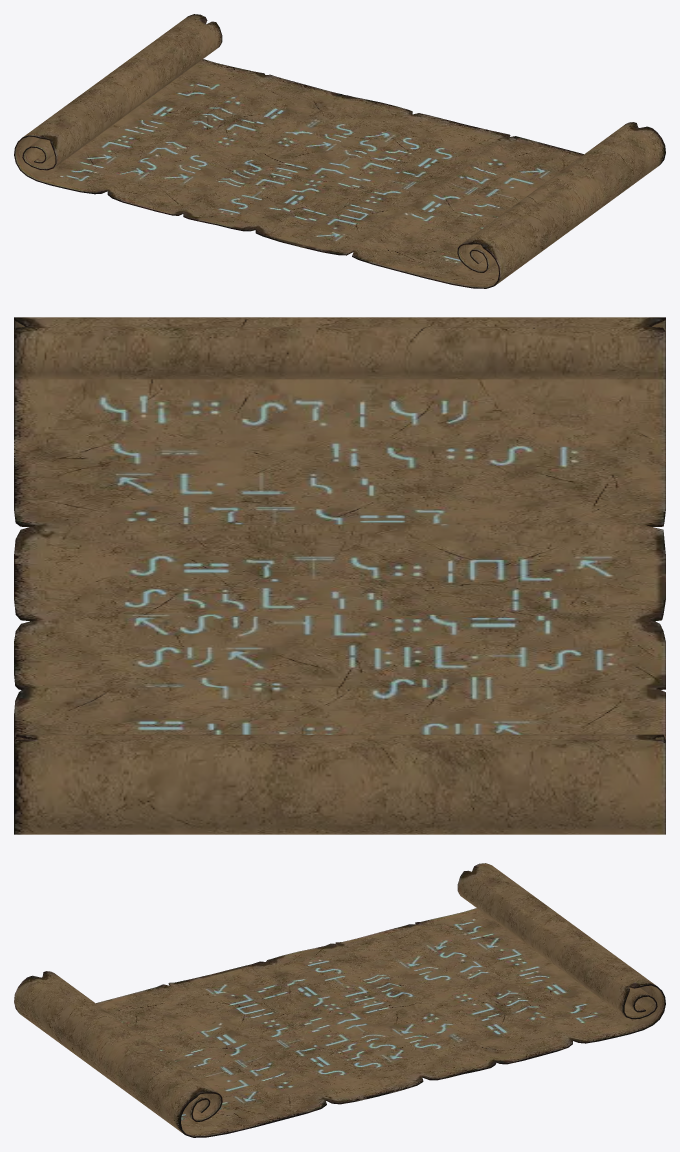
Rendered from scroll.glb.
3 renders of one model, top to bottom at view 1: azimuth 30°, elevation 25°; view 2: azimuth 150°, elevation 25°; view 3: azimuth 270°, elevation 25°, orthographic. The views are drawn at different scales.
Visible parts, largest first — view 1: Scroll; view 2: Scroll; view 3: Scroll.
Part boxes in pixels (left/top/right/bottom): Scroll: left=14, top=14, right=665, bottom=288; Scroll: left=14, top=317, right=665, bottom=834; Scroll: left=14, top=863, right=665, bottom=1137.
Bounding box in the file's own units: 7.69 × 0.7039 × 8.83.
Materials: 1 (1 with a texture image).
